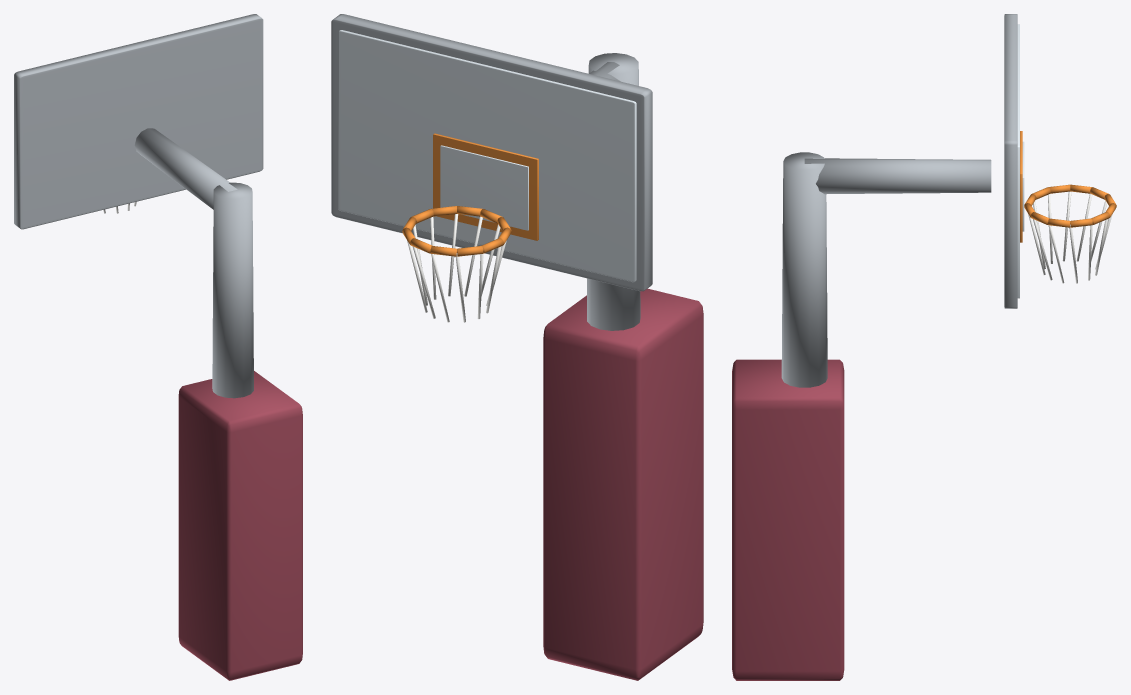
Rendered from SM_Gym_BasketballHoop.fbx.
3 views of the same model, side by side, from view 1: azimuth 30°, elevation 25°; view 2: azimuth 150°, elevation 25°; view 3: azimuth 270°, elevation 25° (orthographic). The views are drawn at different scales.
Visible parts, largest first — view 1: SM_Gym_BasketballHoop; view 2: SM_Gym_BasketballHoop; view 3: SM_Gym_BasketballHoop.
Boxes of the visible parts, x1,y1,x2,y2 form: SM_Gym_BasketballHoop: [14, 14, 302, 680]; SM_Gym_BasketballHoop: [331, 14, 703, 680]; SM_Gym_BasketballHoop: [732, 14, 1116, 680].
Bounding box in the file's own units: 1.86 × 3.91 × 2.33.
